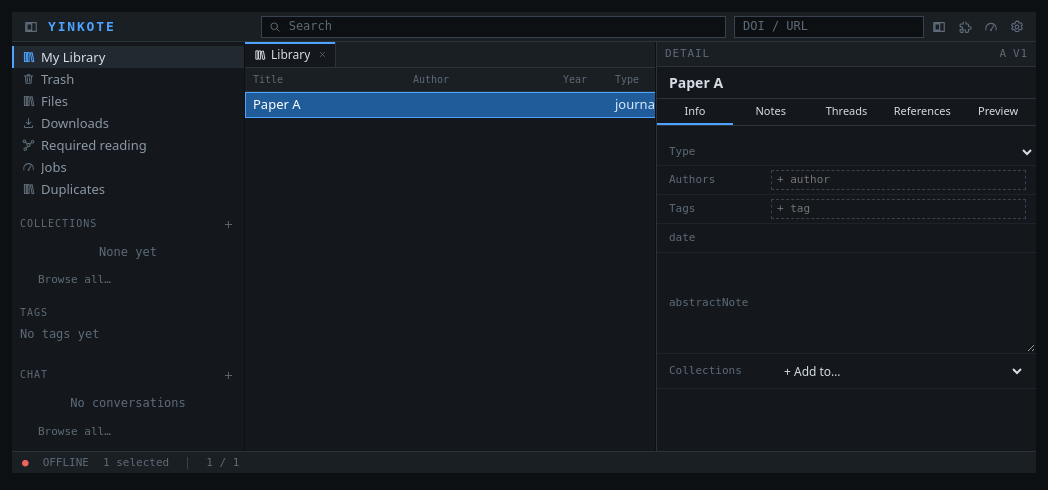
Test: a paper's conversations › lists the threads that named it
Click the button with class "rail-tab" showing "Threads".
click(846, 112)  # box 809,99 -> 884,125
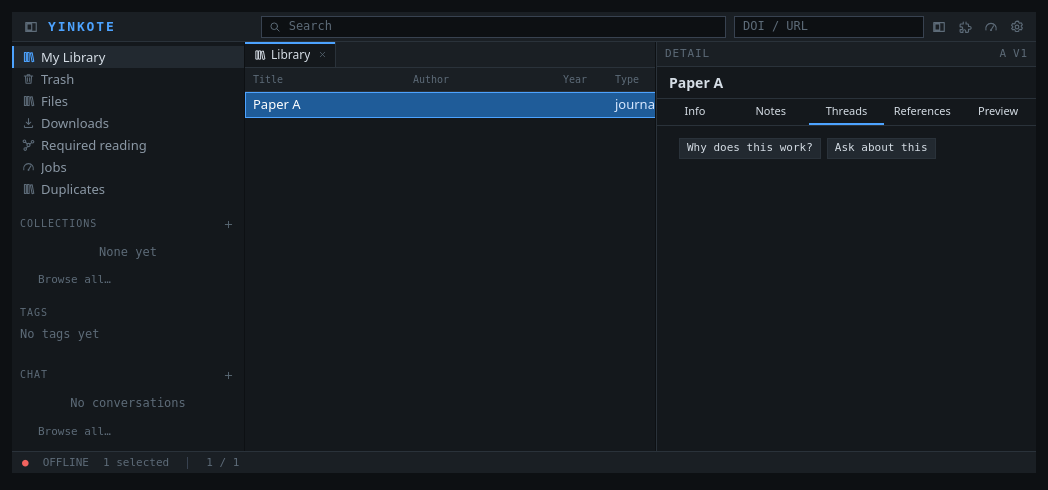
Result: the text "Why does this work?" is shown at 679,138 -> 821,159
